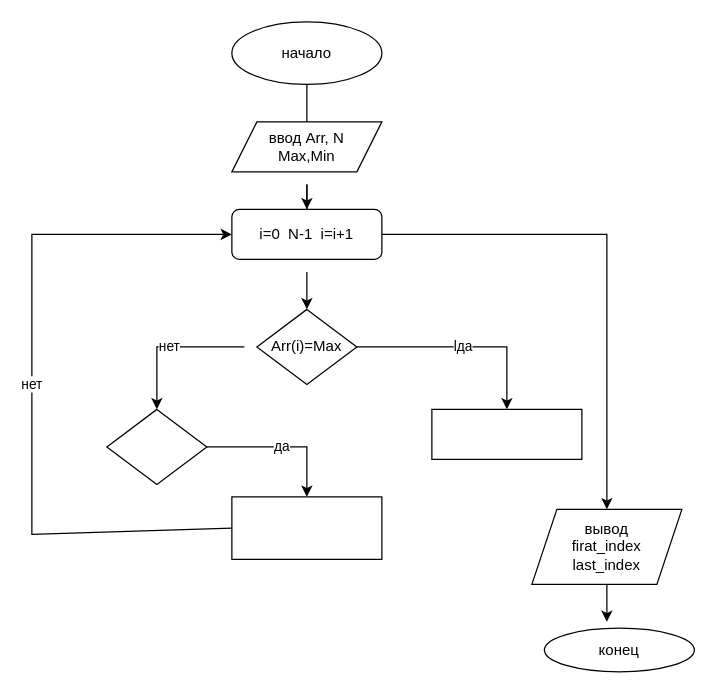
Image size: 716x694. Some labels were removed from this diagram. Each missing label, with the centre of its shape:
Arr(i)= Min: pixel 156 446
first_index=i: pixel 506 433
last_index=i: pixel 306 527
